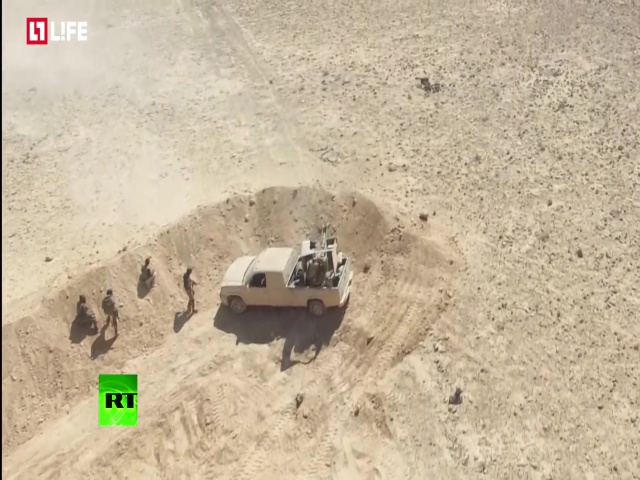person: (98, 289, 123, 340), (72, 292, 98, 332), (179, 267, 200, 315), (137, 256, 158, 290)
vehicle: (216, 248, 359, 316)
